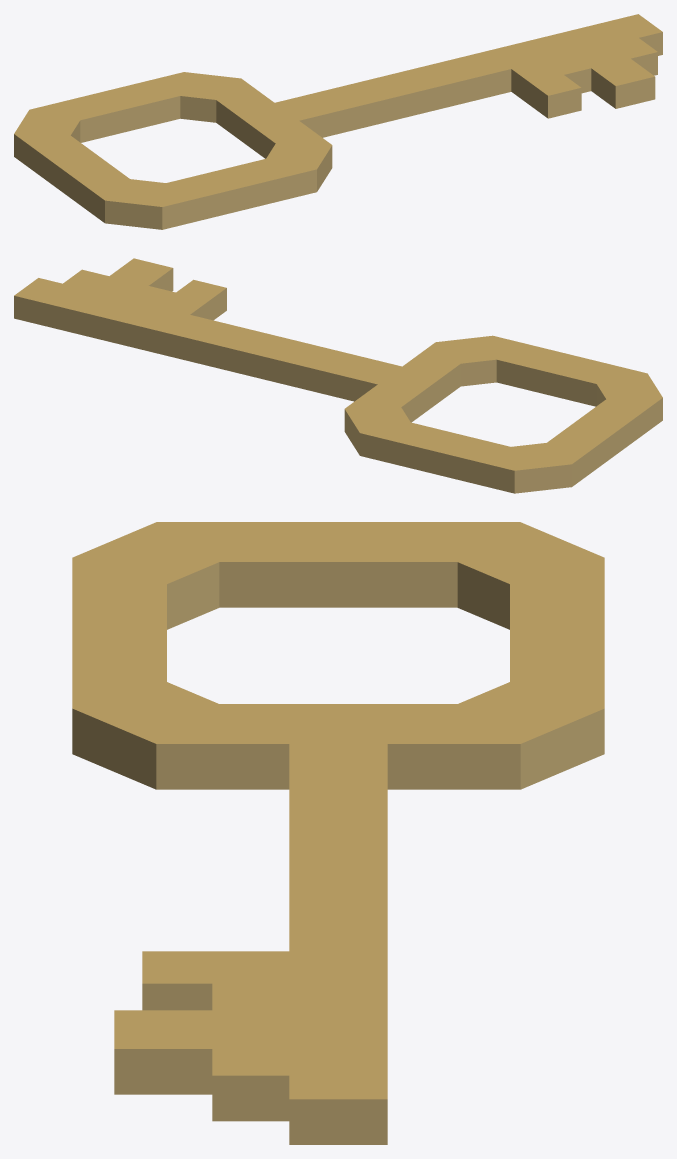
The picture shows the model from 3 angles, top to bottom: view 1: azimuth 30°, elevation 25°; view 2: azimuth 150°, elevation 25°; view 3: azimuth 270°, elevation 25°; orthographic projection. The views are drawn at different scales.
Visible parts, largest first — view 1: WholePiercedBowShankAndSteppedBit; view 2: WholePiercedBowShankAndSteppedBit; view 3: WholePiercedBowShankAndSteppedBit.
Part boxes in pixels (x1,y1,x2,y2): WholePiercedBowShankAndSteppedBit: (14,14,662,229); WholePiercedBowShankAndSteppedBit: (14,258,662,493); WholePiercedBowShankAndSteppedBit: (72,522,604,1144).
Size of the model in its own units: 0.4875 by 0.018 by 0.19.
